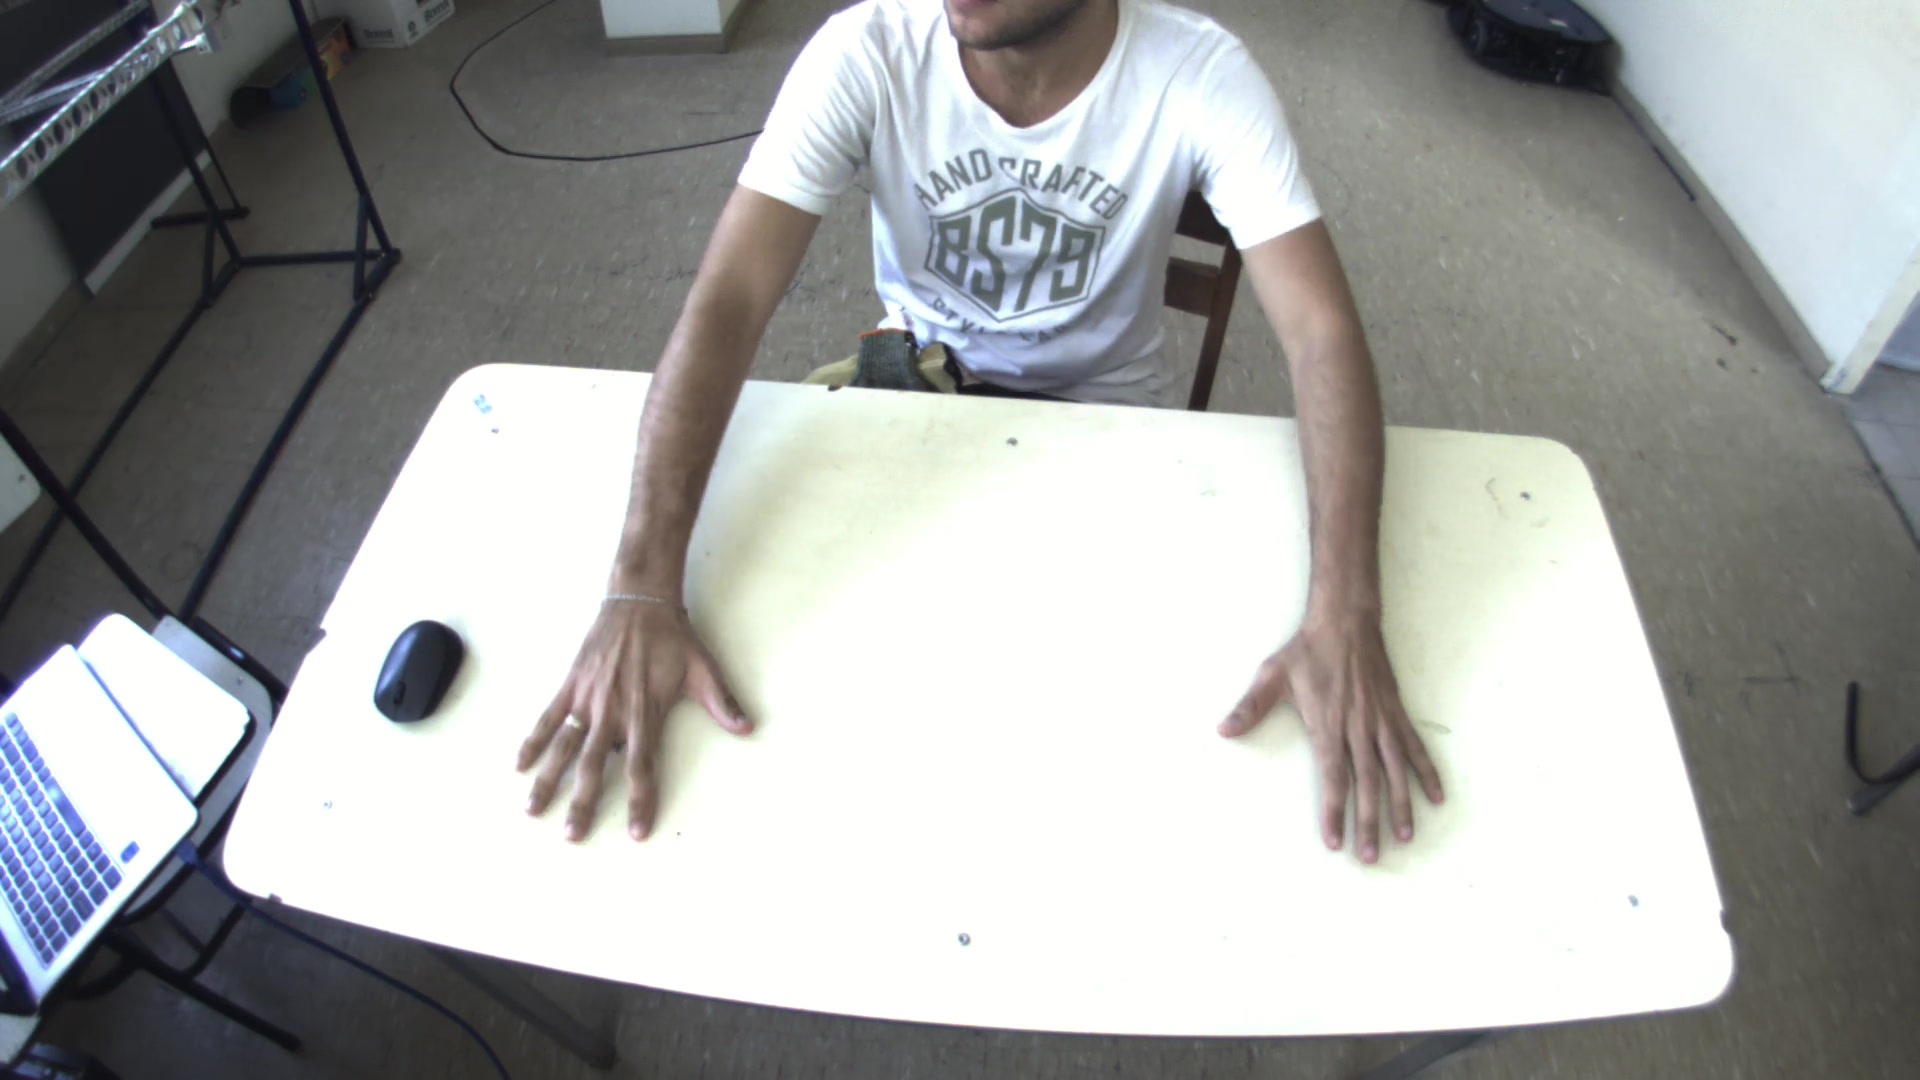hand: (493, 578, 761, 853), (1222, 605, 1472, 866)
